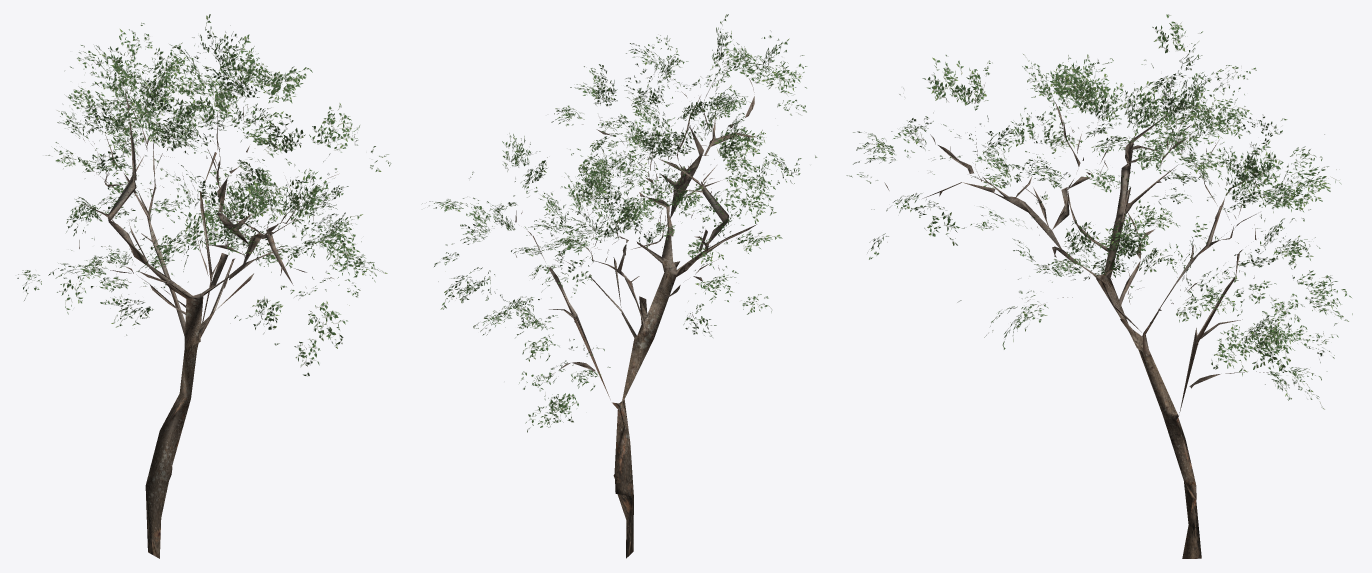
The model's file is tree_small_02_lod1.glb.
3 renders of one model, left to right at view 1: azimuth 30°, elevation 25°; view 2: azimuth 150°, elevation 25°; view 3: azimuth 270°, elevation 25°, orthographic. The views are drawn at different scales.
Parts seen in each view (by area): view 1: tree_small_02_LOD0; view 2: tree_small_02_LOD0; view 3: tree_small_02_LOD0.
Boxes of the visible parts, x1,y1,x2,y2 form: tree_small_02_LOD0: [17, 14, 391, 558]; tree_small_02_LOD0: [422, 14, 817, 558]; tree_small_02_LOD0: [846, 14, 1352, 558].
Size of the model in its own units: 2.87 by 4.53 by 4.14.
3 materials, 3 textured.
